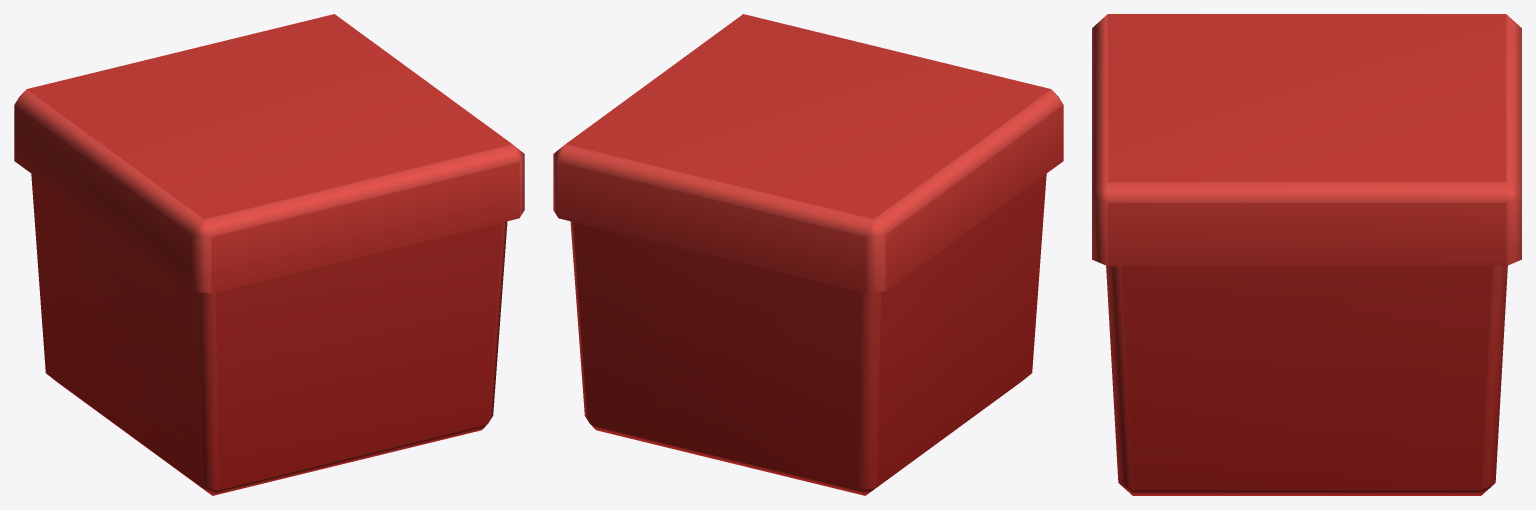
Rendered from giftbox_001.fbx.
3 views of the same model, side by side, from view 1: azimuth 30°, elevation 25°; view 2: azimuth 150°, elevation 25°; view 3: azimuth 270°, elevation 25° (orthographic). The views are drawn at different scales.
Parts seen in each view (by area): view 1: giftbox_001; view 2: giftbox_001; view 3: giftbox_001.
Boxes of the visible parts, x1,y1,x2,y2 form: giftbox_001: (14,14,524,495); giftbox_001: (553,14,1063,495); giftbox_001: (1092,14,1521,495).
Bounding box in the file's own units: 192 × 192 × 160.
